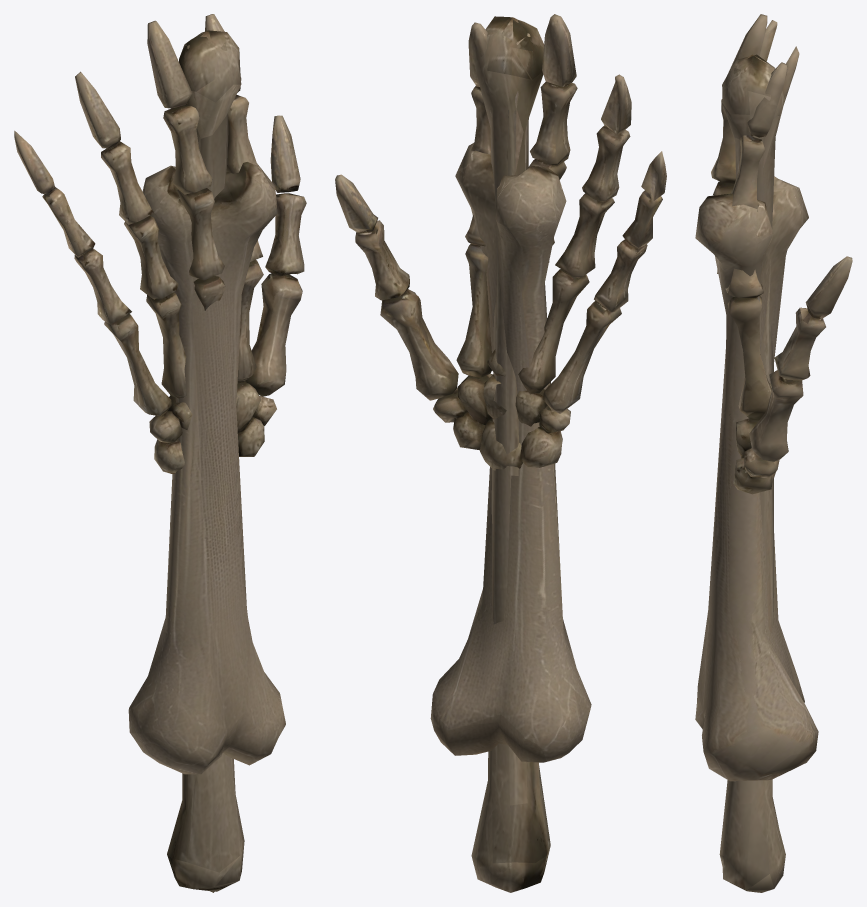
Rendered from bone-hand-left.glb.
The picture shows the model from 3 angles, left to right: view 1: azimuth 30°, elevation 25°; view 2: azimuth 150°, elevation 25°; view 3: azimuth 270°, elevation 25°; orthographic projection. The views are drawn at different scales.
Parts seen in each view (by area): view 1: arm_humerus, arm_radius, palm_meta_thumb, finger_middle_pip, finger_thumb, palm_meta_pinky, finger_middle, palm_meta_ring, finger_middle_dip, finger_ring, finger_ring_pip, finger_thumb_ip (+11 smaller); view 2: arm_humerus, arm_radius, palm_meta_thumb, palm_meta_ring, palm_meta_index, palm_meta_pinky, finger_middle_pip, finger_ring, finger_thumb, finger_ring_pip, finger_middle_dip, finger_pinky (+13 smaller); view 3: arm_humerus, arm_radius, palm_meta_index, palm_meta_thumb, finger_thumb, finger_index_pip, finger_thumb_ip, finger_index_dip, finger_middle_pip, finger_middle_dip, finger_index, palm_carpal_3 (+4 smaller).
Part boxes in pixels (box(x1,y1,x2,y2)): arm_humerus: box(128, 162, 285, 774); arm_radius: box(167, 30, 244, 891); palm_meta_thumb: box(244, 273, 302, 396); finger_middle_pip: box(163, 104, 212, 194); finger_thumb: box(265, 193, 306, 276); palm_meta_pinky: box(104, 314, 171, 416); finger_middle: box(177, 188, 224, 280); palm_meta_ring: box(146, 292, 186, 398); finger_middle_dip: box(147, 20, 192, 108); finger_ring: box(124, 215, 178, 299); finger_ring_pip: box(101, 141, 153, 224); finger_thumb_ip: box(270, 115, 300, 192); arm_humerus: box(430, 143, 591, 762); arm_radius: box(471, 16, 550, 892); palm_meta_thumb: box(380, 289, 458, 400); palm_meta_ring: box(518, 269, 589, 393); palm_meta_index: box(456, 244, 491, 378); palm_meta_pinky: box(542, 301, 621, 413); finger_middle_pip: box(530, 82, 577, 166); finger_ring: box(555, 193, 614, 278); finger_thumb: box(355, 220, 409, 300); finger_ring_pip: box(582, 125, 630, 201); finger_middle_dip: box(542, 14, 576, 86); finger_pinky: box(594, 239, 647, 312); arm_humerus: box(695, 176, 818, 781); arm_radius: box(719, 54, 785, 892); palm_meta_index: box(727, 296, 771, 420); palm_meta_thumb: box(749, 370, 803, 461); finger_thumb: box(774, 307, 825, 380); finger_index_pip: box(730, 135, 765, 211); finger_thumb_ip: box(805, 256, 852, 319); finger_index_dip: box(747, 62, 787, 137); finger_middle_pip: box(711, 99, 735, 183); finger_middle_dip: box(727, 14, 767, 74); finger_index: box(725, 268, 763, 297); palm_carpal_3: box(733, 458, 772, 494).
Bounding box in the file's own units: 0.1809 × 0.5103 × 0.0855.
30 materials, 30 textured.
